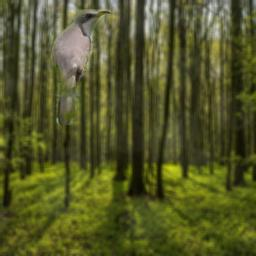Cuckoo: (52, 9, 111, 125)
